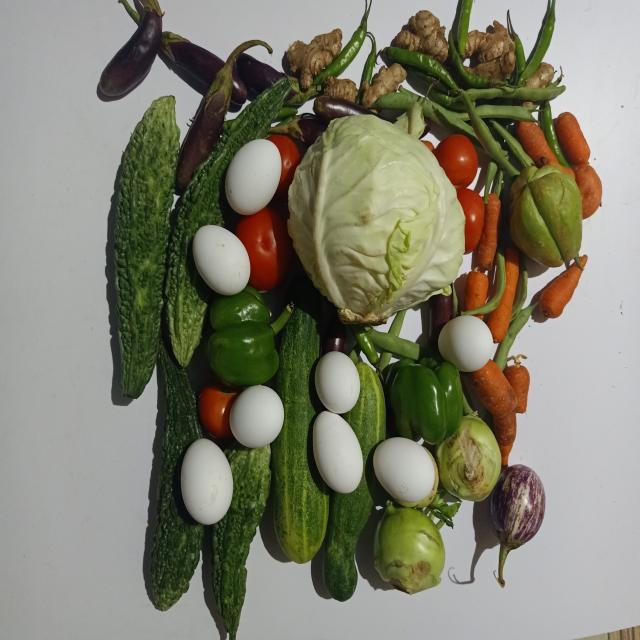Bitter Gourd: (164, 79, 289, 367), (114, 95, 179, 398), (150, 341, 204, 612), (212, 442, 271, 640)
Brinjal: (176, 39, 272, 187), (99, 0, 163, 95), (160, 30, 224, 85), (231, 71, 247, 103)
Cabbage: (289, 114, 465, 324)
Carrot: (470, 360, 518, 447), (540, 262, 583, 318), (555, 111, 591, 166), (580, 254, 589, 267)
Chayote: (511, 164, 583, 266)
Cucumber: (271, 277, 329, 564), (323, 362, 386, 602)
Egg: (180, 439, 233, 525), (373, 438, 436, 504), (313, 411, 363, 494), (192, 224, 250, 295), (229, 385, 284, 448), (439, 315, 494, 372), (315, 351, 360, 414)
Eggplant: (492, 465, 546, 588)
Ginger: (287, 27, 342, 87), (465, 19, 516, 79), (396, 9, 449, 62), (362, 63, 407, 106)
Green Chilly: (312, 0, 372, 85), (386, 45, 460, 90), (518, 0, 556, 85), (457, 188, 485, 254)
Tomato: (236, 206, 293, 291), (433, 134, 479, 188)
Turnip: (374, 502, 445, 595), (437, 414, 502, 502)
